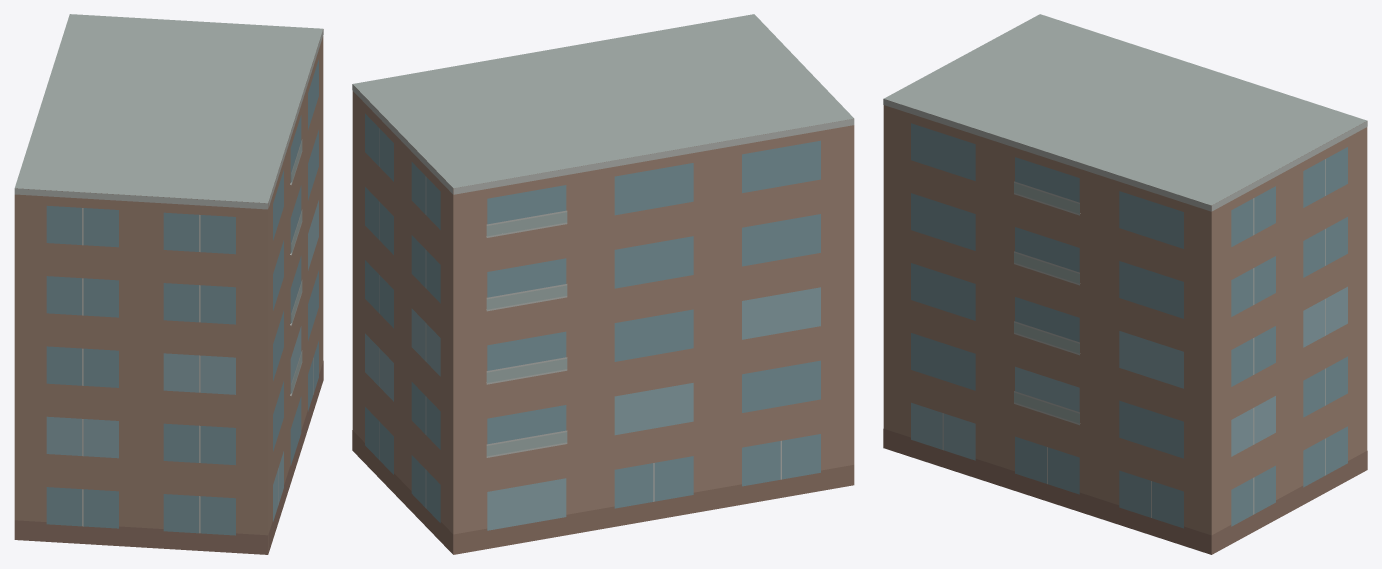
File: survey-upis-32842901.glb
3 renders of one model, left to right at view 1: azimuth 30°, elevation 25°; view 2: azimuth 150°, elevation 25°; view 3: azimuth 270°, elevation 25°, orthographic. The views are drawn at different scales.
Parts seen in each view (by area): view 1: survey-upis-32842901.tmp; view 2: survey-upis-32842901.tmp; view 3: survey-upis-32842901.tmp.
Part boxes in pixels (box(x1,y1,x2,y2)): survey-upis-32842901.tmp: box(14, 14, 323, 554); survey-upis-32842901.tmp: box(352, 14, 854, 554); survey-upis-32842901.tmp: box(883, 14, 1367, 554).
Bounding box in the file's own units: 16.24 × 13.8 × 17.33.
